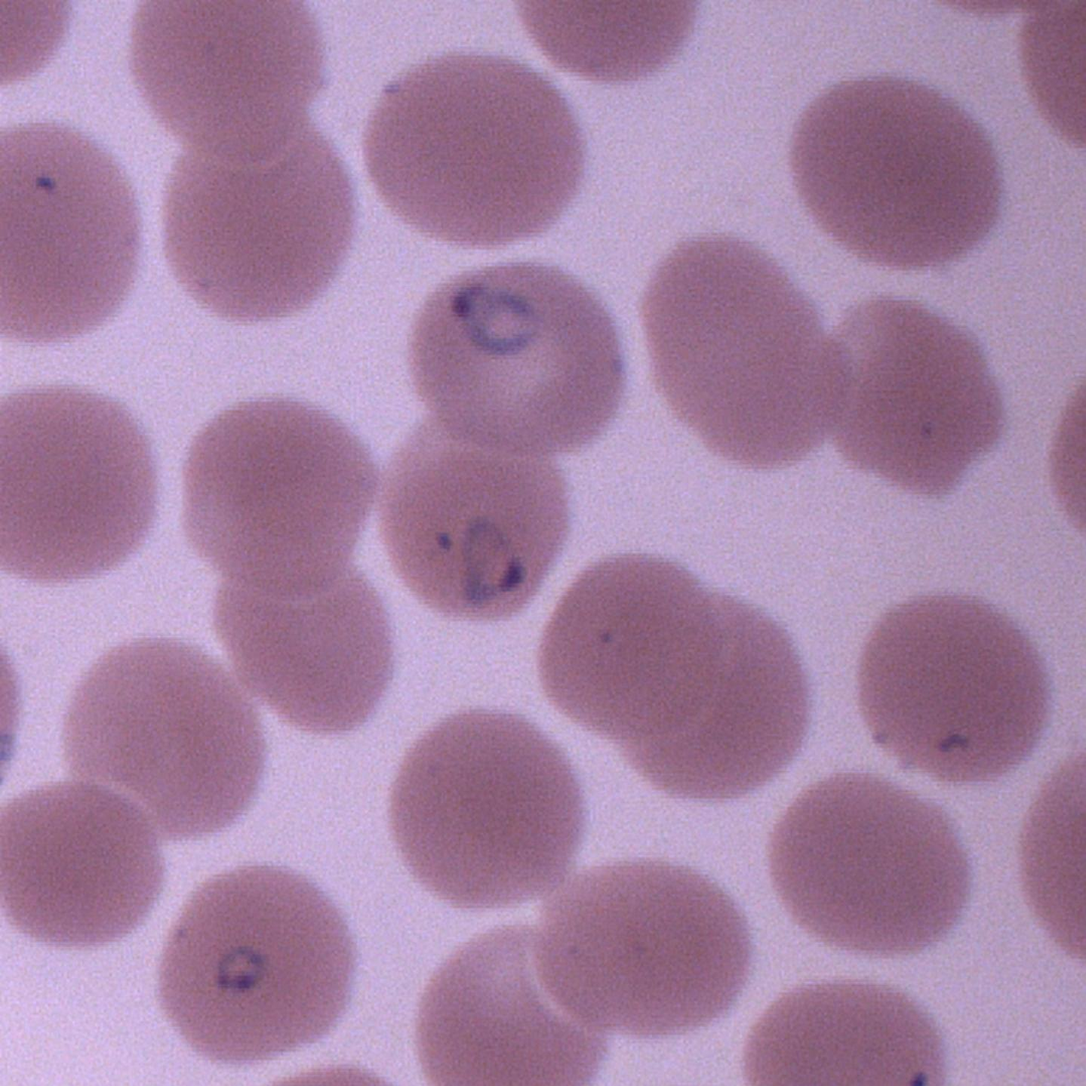Infected: (403, 259, 623, 447), (155, 865, 353, 1063), (385, 435, 573, 618)
Uninfected: (364, 54, 586, 247), (68, 627, 269, 829), (809, 299, 1009, 499), (609, 602, 810, 801), (788, 85, 1000, 267), (179, 401, 371, 599), (391, 714, 588, 906), (528, 856, 742, 1028), (165, 134, 354, 318), (773, 765, 969, 942), (533, 554, 728, 731), (865, 595, 1048, 783), (134, 0, 321, 168), (214, 557, 400, 724), (2, 388, 152, 578), (5, 785, 164, 942), (675, 321, 841, 470), (652, 235, 818, 362)
